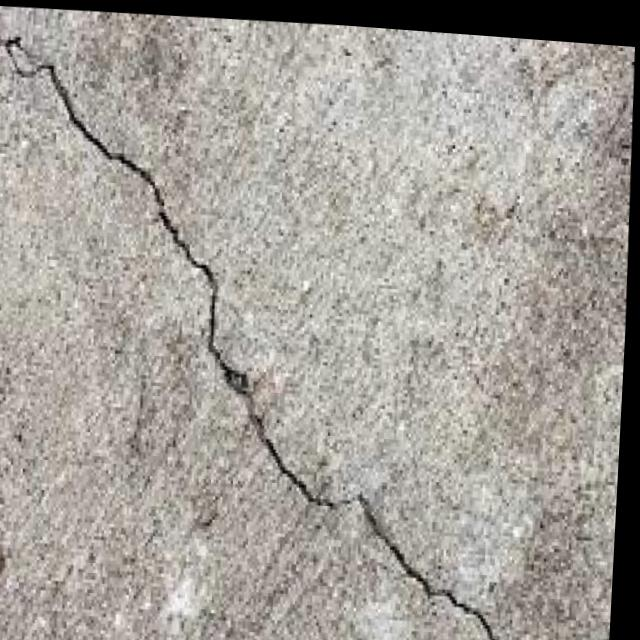Crack: (27, 60, 252, 380), (360, 489, 526, 640), (235, 374, 372, 511)
